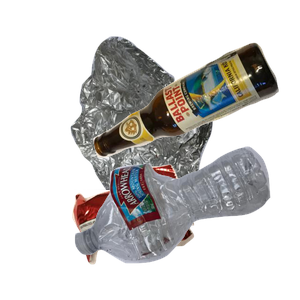glass: (91, 40, 300, 190)
metal: (68, 34, 300, 214)
plastic: (72, 144, 300, 300)
trash: (70, 162, 257, 300)
